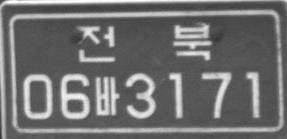0: (22, 72, 53, 119)
1: (163, 72, 191, 119), (241, 70, 268, 118)
3: (125, 72, 157, 119)
6: (60, 72, 90, 120)
7: (200, 70, 233, 119)
바: (94, 75, 120, 115)
전북_D: (76, 24, 211, 62)
